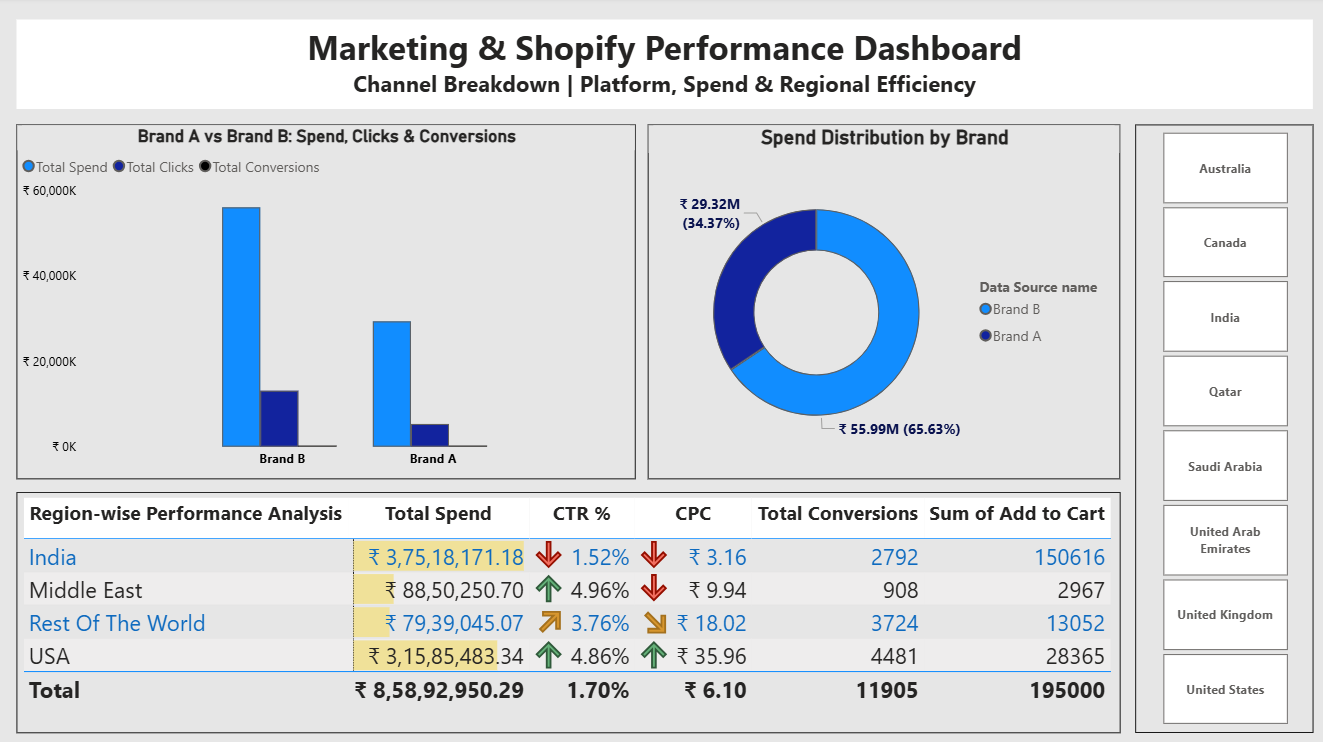

What the dashboard file says about the page in this screenshot:
{"tool":"powerbi","page":{"name":"Channel Breakdown","canvas":[1280,720],"ordinal":1},"visuals":[{"type":"textbox","box":[16.5,21.5,1251.1,86.2],"z":0},{"type":"lineClusteredColumnComboChart","title":"Brand A vs Brand B: Spend, Clicks & Conversions","fields":{"Category":["Campaign_Cleaned.Data Source name"],"Y":["DAX.Total Spend","DAX.Total Clicks","DAX.Total Conversions"]},"box":[16.7,123.2,597.6,342.1],"z":1000},{"type":"donutChart","title":"Spend Distribution by Brand","fields":{"Category":["Campaign_Cleaned.Data Source name"],"Y":["DAX.Total Spend"]},"box":[626.5,123.2,456.2,342.1],"z":2000},{"type":"tableEx","fields":{"Values":["Campaign_Cleaned.Geo Location Segment","DAX.Total Spend","DAX.CTR %","DAX.CPC","DAX.Total Conversions","Sum(Campaign_Cleaned.Add to Cart)"]},"box":[16.7,477.5,1065.9,232.6],"z":3000},{"type":"slicer","fields":{"Values":["Campaign_Cleaned.Country Funnel"]},"box":[1096.3,123.2,171.8,586.9],"z":4000}]}

Visuals, with their boxes in screenshot pixels (x1, y1, x2, y2), scaled from the page's 1280x720 canvas onto the 1323x742 screenshot:
textbox: 17 22 1310 111
"Brand A vs Brand B: Spend, Clicks & Conversions" lineClusteredColumnComboChart: 17 127 635 480
"Spend Distribution by Brand" donutChart: 648 127 1119 480
tableEx - Campaign_Cleaned.Geo Location Segment x DAX.Total Spend: 17 492 1119 732
slicer - Campaign_Cleaned.Country Funnel: 1133 127 1311 732
